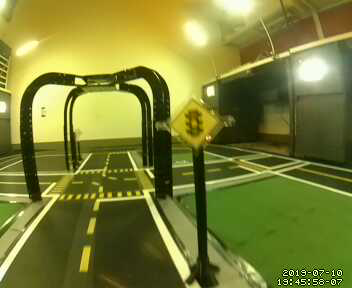Traffic light sign: (170, 95, 224, 145)
